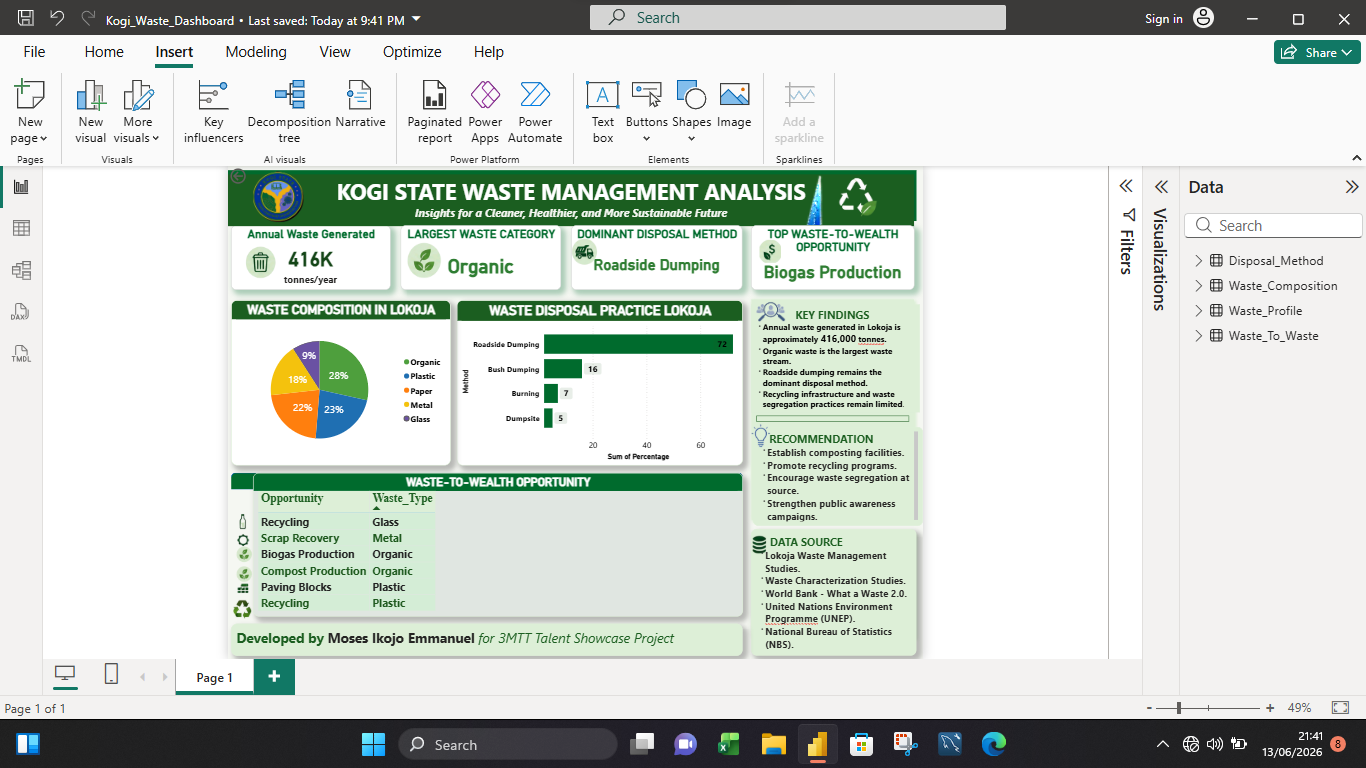

Layout of this report page (visuals, bound fields, positions):
{"tool":"powerbi","page":{"name":"Page 1","canvas":[1366,968],"ordinal":0},"visuals":[{"type":"card","title":"Annual Waste Generated","fields":{"Values":["Disposal_Method.Annual Waste"]},"box":[5.6,126.8,314.1,126.8],"z":0},{"type":"textbox","box":[0,15.5,1349.3,102.8],"z":1000},{"type":"card","title":"LARGEST WASTE CATEGORY","fields":{"Values":["Max(Waste_Composition.Waste_ Type)"]},"box":[338.1,127.3,313,125.2],"z":2000},{"type":"card","title":"DOMINANT DISPOSAL METHOD","fields":{"Values":["Max(Disposal_Method.Method)"]},"box":[663.7,127.3,346.4,127.3],"z":3000},{"type":"card","title":"TOP WASTE-TO-WEALTH OPPORTUNITY","fields":{"Values":["Min(Waste_To_Waste.Opportunity)"]},"box":[1028.2,126.8,321.1,126.8],"z":4000},{"type":"clusteredBarChart","title":"WASTE DISPOSAL METHODS LOKOJA","fields":{"Category":["Disposal_Method.Method"],"Y":["Sum(Disposal_Method.Percentage)"]},"box":[444.3,348.6,570,298.6],"z":6000},{"type":"pieChart","title":"WASTE COMPOSITION BY PERCENTAGE","fields":{"Category":["Waste_Composition.Waste_ Type"],"Series":["Waste_Composition.Percentage"],"Y":["Sum(Waste_Composition.Percentage)"]},"box":[0,348.6,434.3,298.6],"z":7000},{"type":"tableEx","title":"WASTE-TO-WEALTH OPPORTUNITY","fields":{"Values":["Waste_To_Waste.Opportunity","Waste_To_Waste.Waste_Type"]},"box":[5.7,651.4,1008.6,258.6],"z":8000},{"type":"shape","box":[1022.5,713.7,337.4,222.9],"z":11000},{"type":"textbox","title":"     ","box":[1028.9,269.2,321.4,244.2],"z":12000},{"type":"textbox","box":[1028.9,517.6,321.4,219.1],"z":13000},{"type":"textbox","box":[1028.9,740.9,321.4,227.5],"z":14000},{"type":"textbox","box":[5.7,908,1007.1,60],"z":15000},{"type":"image","box":[0,146.5,94.4,78.9],"z":16000},{"type":"image","box":[319.7,154.9,98.6,60.6],"z":17000},{"type":"image","box":[676.1,139.4,57.7,76.1],"z":18000},{"type":"image","box":[1001.4,154.9,104.2,45.1],"z":19000},{"type":"image","box":[1257.7,19.7,91.5,88.7],"z":20000},{"type":"image","box":[1020.5,713.7,41.7,106.4],"z":21000},{"type":"image","box":[0,840,28.6,34.3],"z":22000},{"type":"image","box":[1016.3,509.2,54.2,73],"z":23000},{"type":"image","box":[0,757.1,30,35.7],"z":24000},{"type":"image","box":[0,725.7,27.1,47.1],"z":25000},{"type":"image","box":[1031,258.8,77.2,56.3],"z":26000},{"type":"image","box":[1.4,870,21.4,31.4],"z":27000},{"type":"image","box":[0,19.7,162,93],"z":28000},{"type":"image","box":[1139.4,15.5,200,102.8],"z":29000},{"type":"image","box":[0,814.3,22.8,34.3],"z":30000},{"type":"image","box":[0,784.3,22.8,34.3],"z":31000},{"type":"textbox","box":[6.3,265,1003.8,79.3],"z":32000}]}

Visuals, with their boxes on the page's 1366x968 design canvas (x1, y1, x2, y2). These are canvas units, not pixel positions in the 1366x768 screenshot, which may show the page scaled, cropped or inside an application window:
"Annual Waste Generated" card: 6,127,320,254
textbox: 0,16,1349,118
"LARGEST WASTE CATEGORY" card: 338,127,651,252
"DOMINANT DISPOSAL METHOD" card: 664,127,1010,255
"TOP WASTE-TO-WEALTH OPPORTUNITY" card: 1028,127,1349,254
"WASTE DISPOSAL METHODS LOKOJA" clusteredBarChart: 444,349,1014,647
"WASTE COMPOSITION BY PERCENTAGE" pieChart: 0,349,434,647
"WASTE-TO-WEALTH OPPORTUNITY" tableEx: 6,651,1014,910
shape: 1022,714,1360,937
"     " textbox: 1029,269,1350,513
textbox: 1029,518,1350,737
textbox: 1029,741,1350,968
textbox: 6,908,1013,968
image: 0,146,94,225
image: 320,155,418,216
image: 676,139,734,216
image: 1001,155,1106,200
image: 1258,20,1349,108
image: 1020,714,1062,820
image: 0,840,29,874
image: 1016,509,1070,582
image: 0,757,30,793
image: 0,726,27,773
image: 1031,259,1108,315
image: 1,870,23,901
image: 0,20,162,113
image: 1139,16,1339,118
image: 0,814,23,849
image: 0,784,23,819
textbox: 6,265,1010,344
